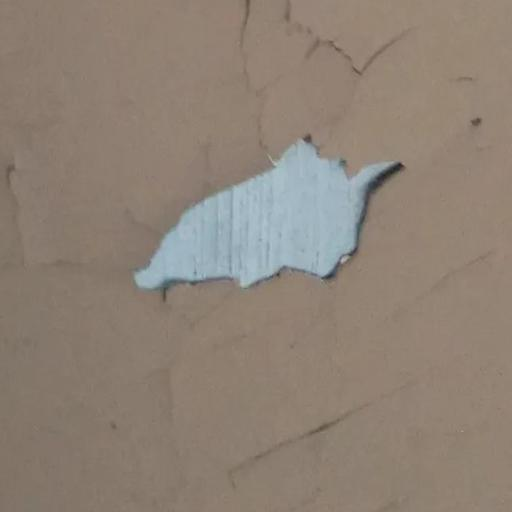peeling: (122, 118, 422, 321), (222, 5, 424, 136)
